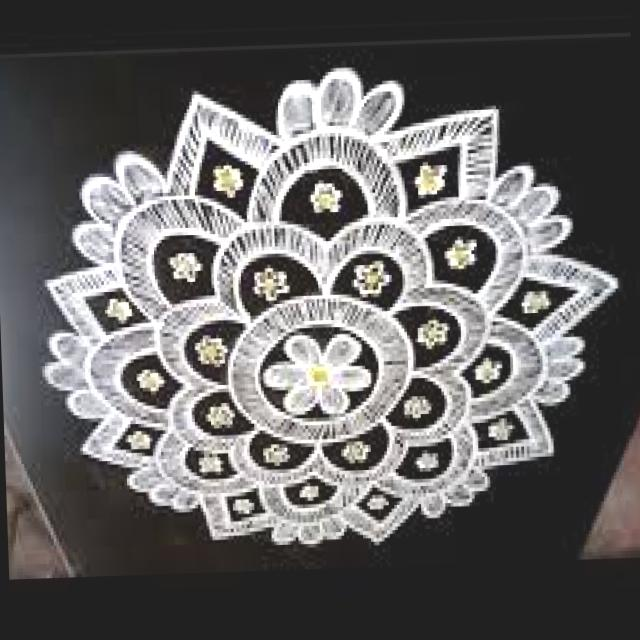rangoli: (30, 60, 624, 556)
